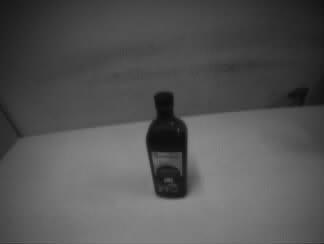Bottle: (144, 91, 188, 199)
